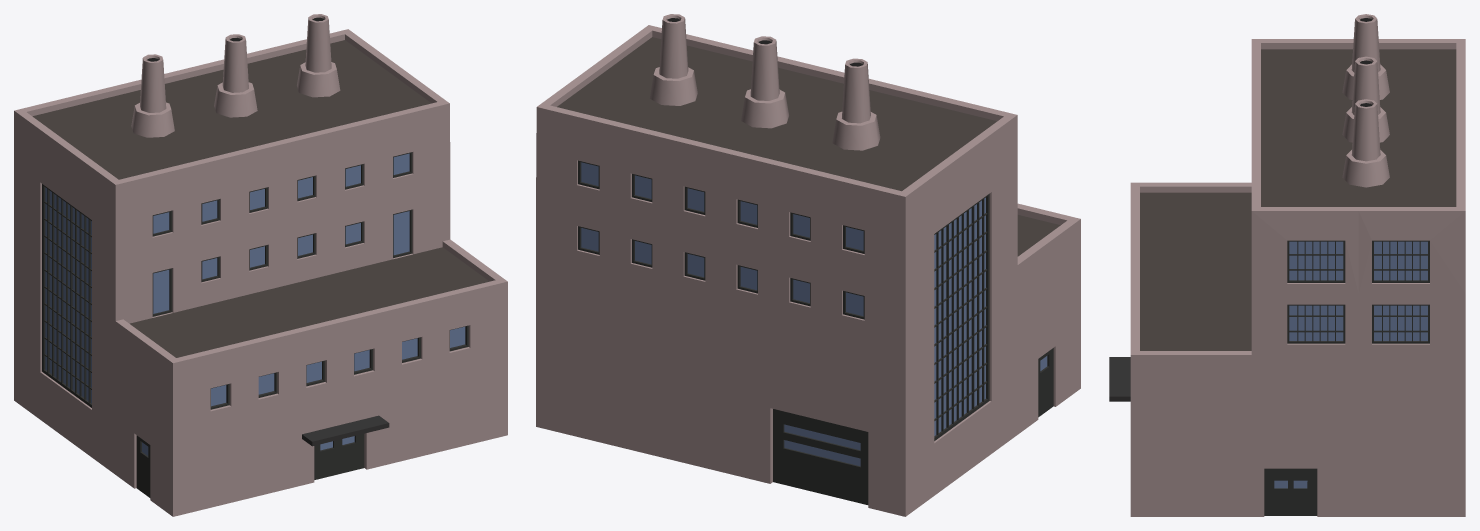
The model's file is FactoryBuilding_09.fbx.
3 views of the same model, side by side, from view 1: azimuth 30°, elevation 25°; view 2: azimuth 150°, elevation 25°; view 3: azimuth 270°, elevation 25° (orthographic). The views are drawn at different scales.
Parts seen in each view (by area): view 1: FactoryBuilding_09; view 2: FactoryBuilding_09; view 3: FactoryBuilding_09.
Boxes of the visible parts, x1,y1,x2,y2 form: FactoryBuilding_09: [14, 14, 507, 516]; FactoryBuilding_09: [536, 14, 1080, 516]; FactoryBuilding_09: [1109, 14, 1465, 516].
Bounding box in the file's own units: 21.9 × 22.13 × 19.17.
